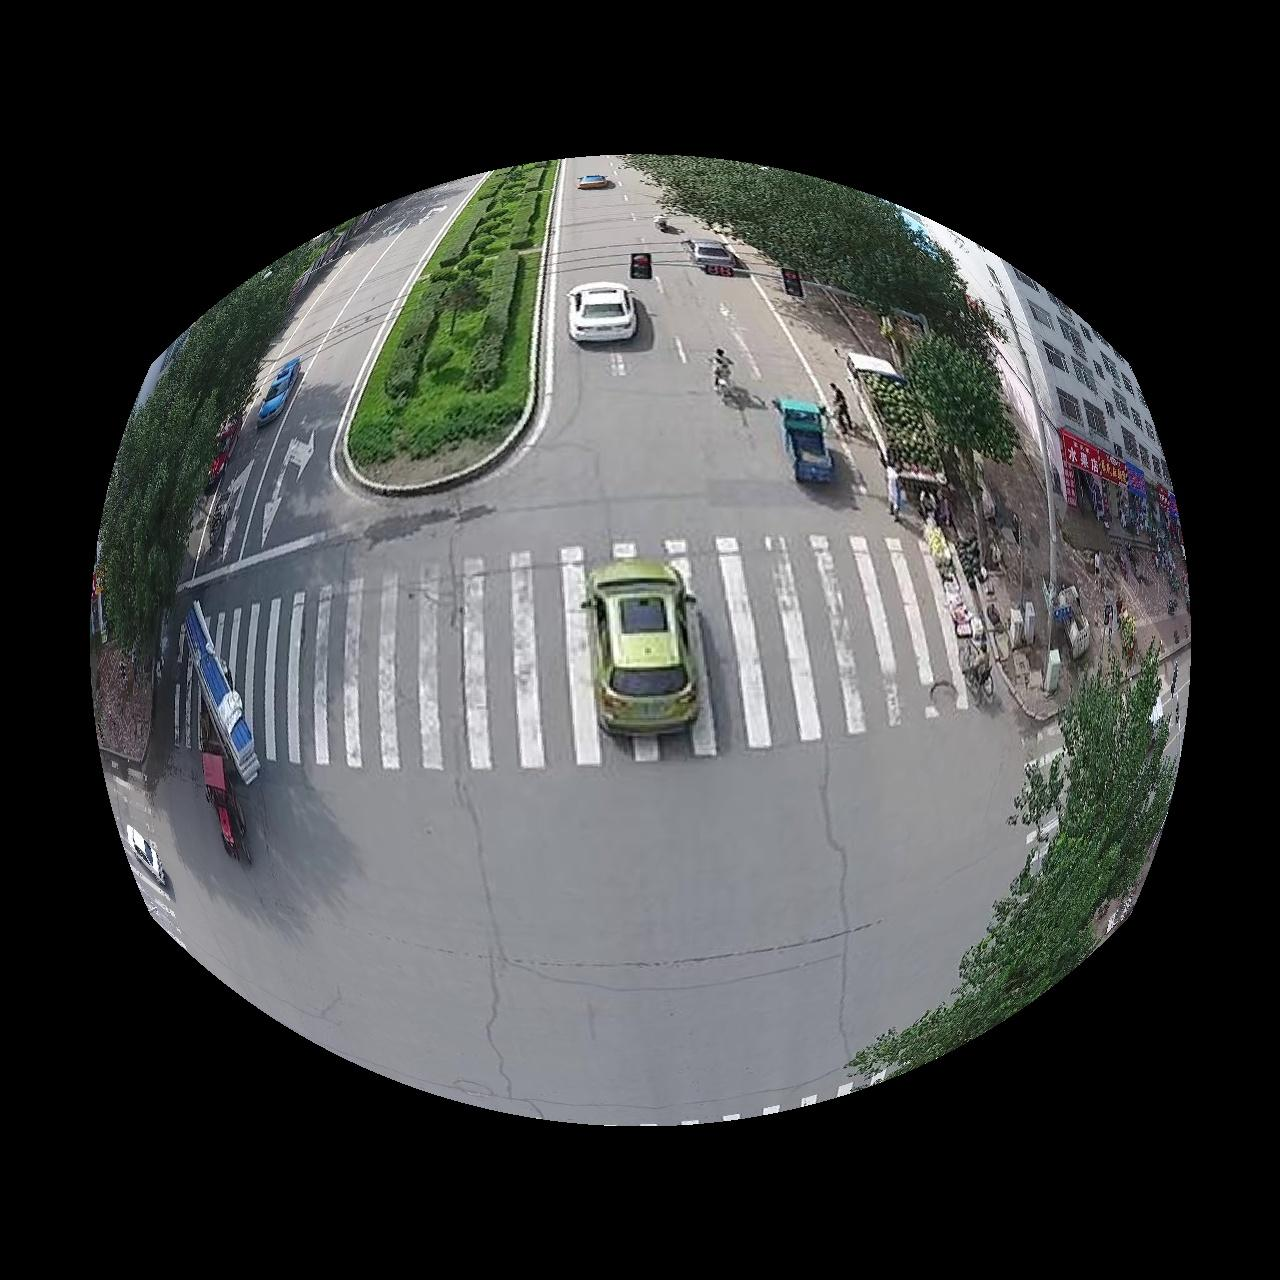cars: (588, 559, 699, 735), (774, 399, 835, 482), (568, 282, 636, 341), (256, 358, 299, 425), (687, 238, 740, 275)
trees: (851, 646, 1178, 1078), (95, 222, 353, 661), (629, 155, 994, 368), (349, 161, 554, 484)
